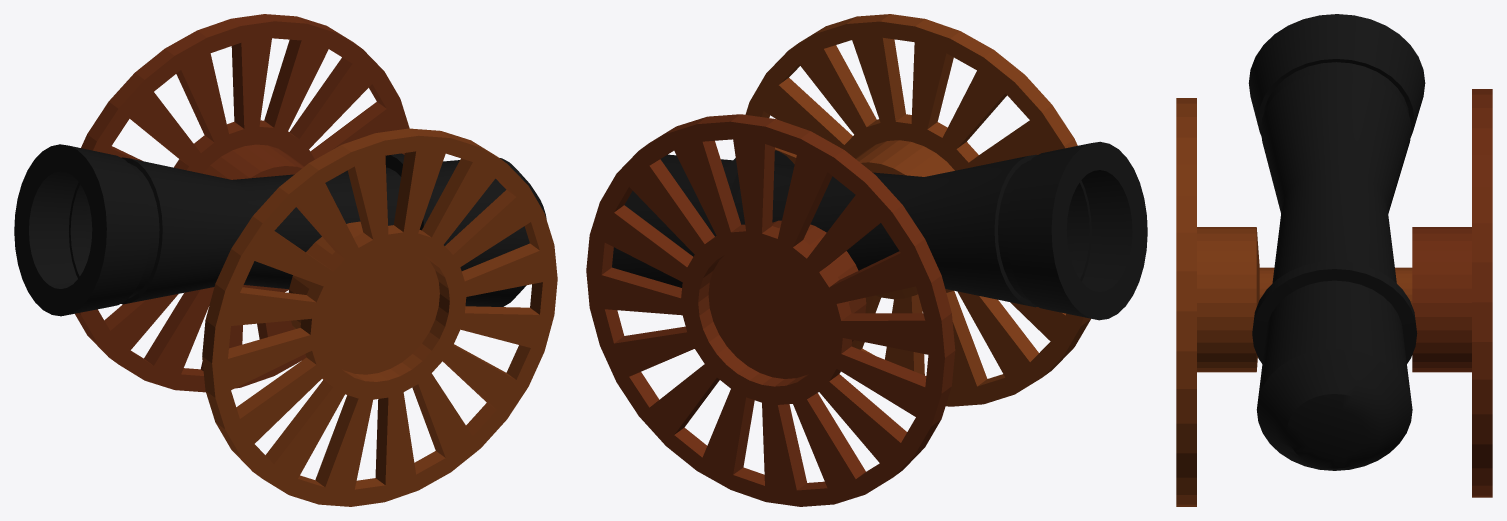
Rendered from Enemy.fbx.
3 views of the same model, side by side, from view 1: azimuth 30°, elevation 25°; view 2: azimuth 150°, elevation 25°; view 3: azimuth 270°, elevation 25° (orthographic). The views are drawn at different scales.
Parts seen in each view (by area): view 1: Cylinder.001, Cylinder.002, Cylinder; view 2: Cylinder.002, Cylinder.001, Cylinder; view 3: Cylinder, Cylinder.001, Cylinder.002.
Part boxes in pixels (x1=…): Cylinder.001: x1=202, y1=128, x2=557, y2=506; Cylinder.002: x1=75, y1=14, x2=409, y2=392; Cylinder: x1=14, y1=144, x2=546, y2=316; Cylinder.002: x1=586, y1=114, x2=955, y2=506; Cylinder.001: x1=745, y1=14, x2=1090, y2=406; Cylinder: x1=612, y1=141, x2=1147, y2=320; Cylinder: x1=1248, y1=14, x2=1425, y2=470; Cylinder.001: x1=1176, y1=98, x2=1412, y2=506; Cylinder.002: x1=1412, y1=89, x2=1492, y2=497.
Bounding box in the file's own units: 144 × 104 × 78.55.
